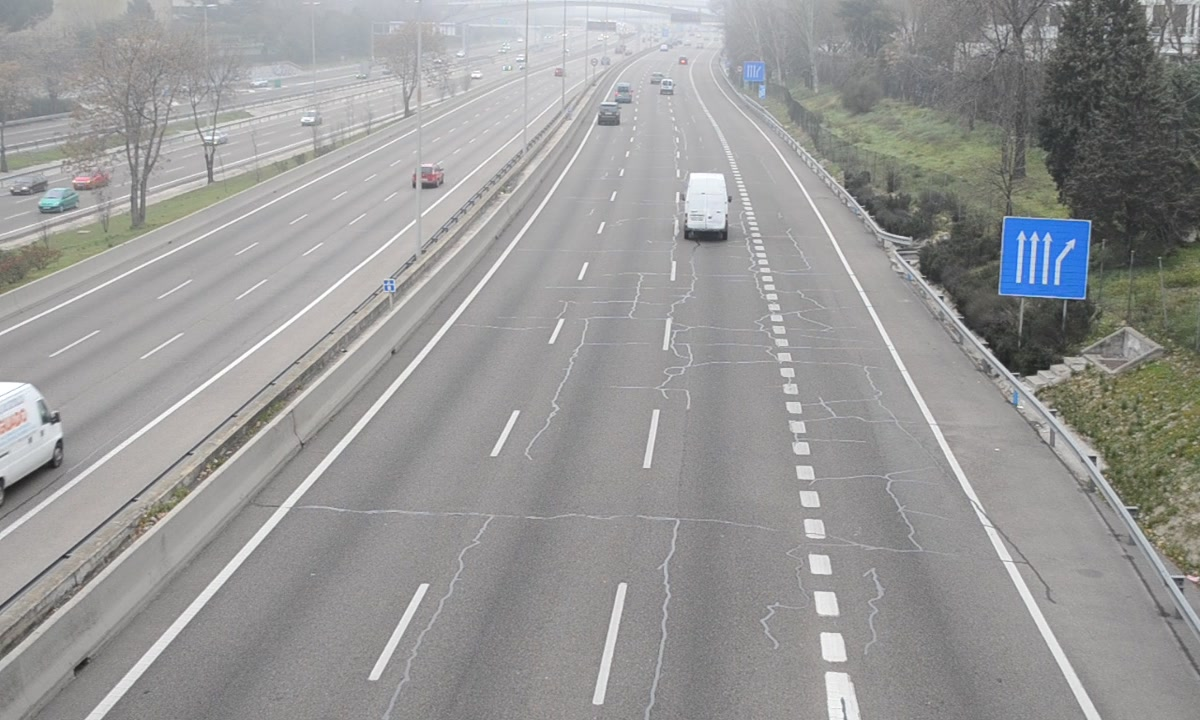car: (598, 101, 620, 124)
van: (681, 171, 731, 236)
